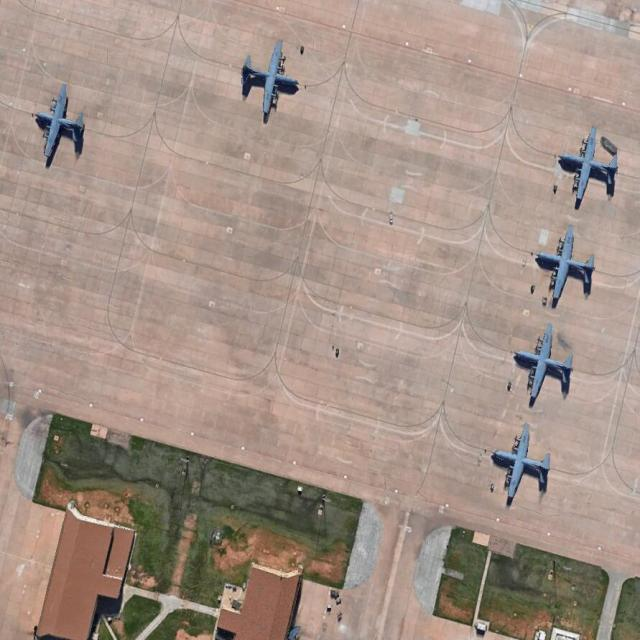fighter jet: (548, 125, 628, 214), (484, 424, 556, 504), (234, 40, 300, 126), (22, 86, 90, 169), (526, 228, 599, 300), (512, 326, 574, 406)
